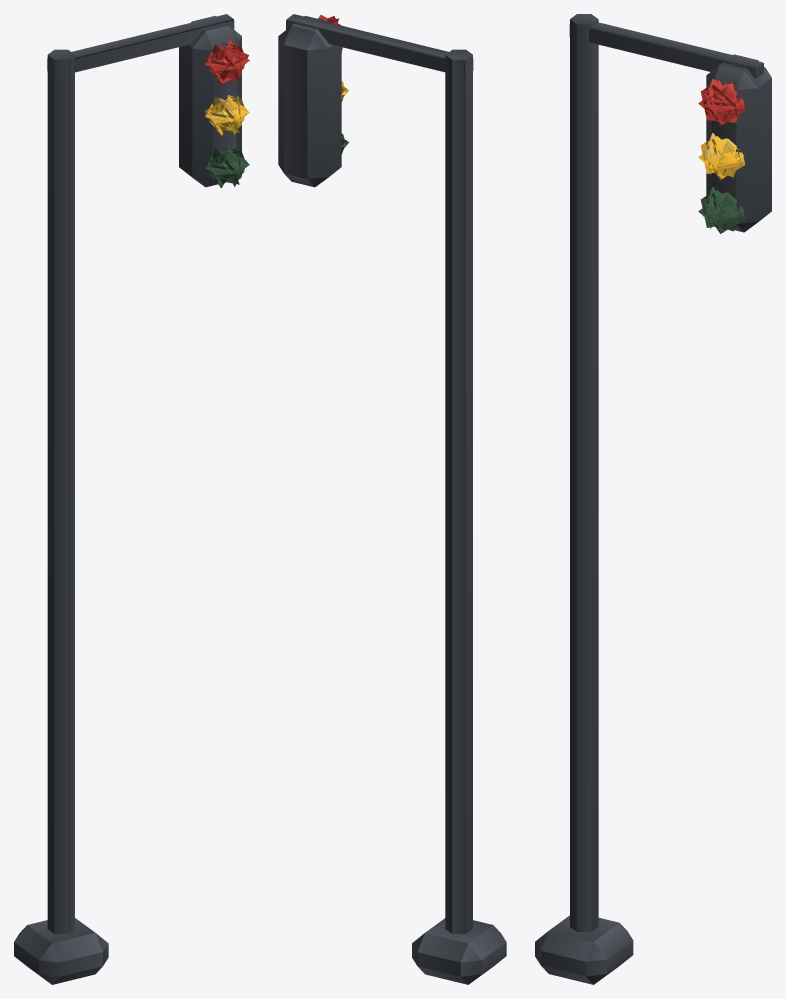
File: dt_traffic_light.fbx
The picture shows the model from 3 angles, left to right: view 1: azimuth 30°, elevation 25°; view 2: azimuth 150°, elevation 25°; view 3: azimuth 330°, elevation 25°; orthographic projection. The views are drawn at different scales.
Visible parts, largest first — view 1: dt_traffic_light; view 2: dt_traffic_light; view 3: dt_traffic_light.
Part boxes in pixels (x1,y1,x2,y2): dt_traffic_light: (14,14,249,984); dt_traffic_light: (278,14,506,984); dt_traffic_light: (535,14,771,984).
Size of the model in its own units: 234 by 980 by 91.26.
